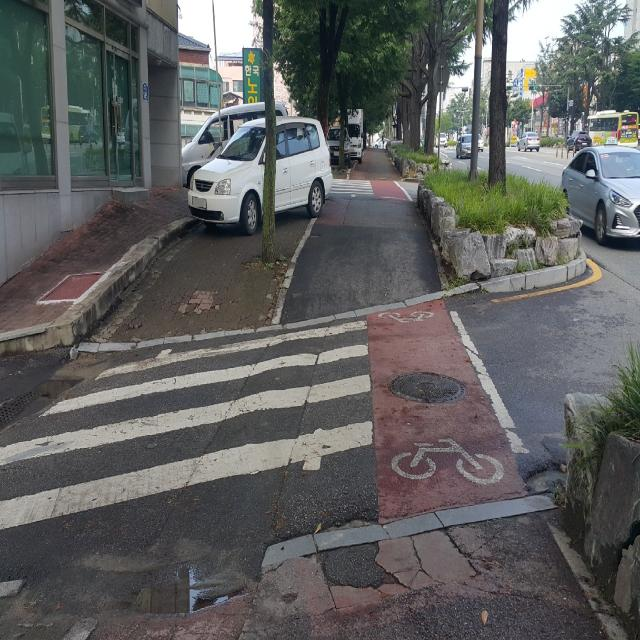횡단보도: (0, 316, 377, 538)
